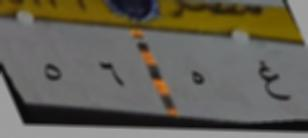5: (37, 49, 67, 92)
6: (96, 52, 131, 99)
ghayn: (249, 53, 296, 111)
haa: (187, 57, 210, 102)
